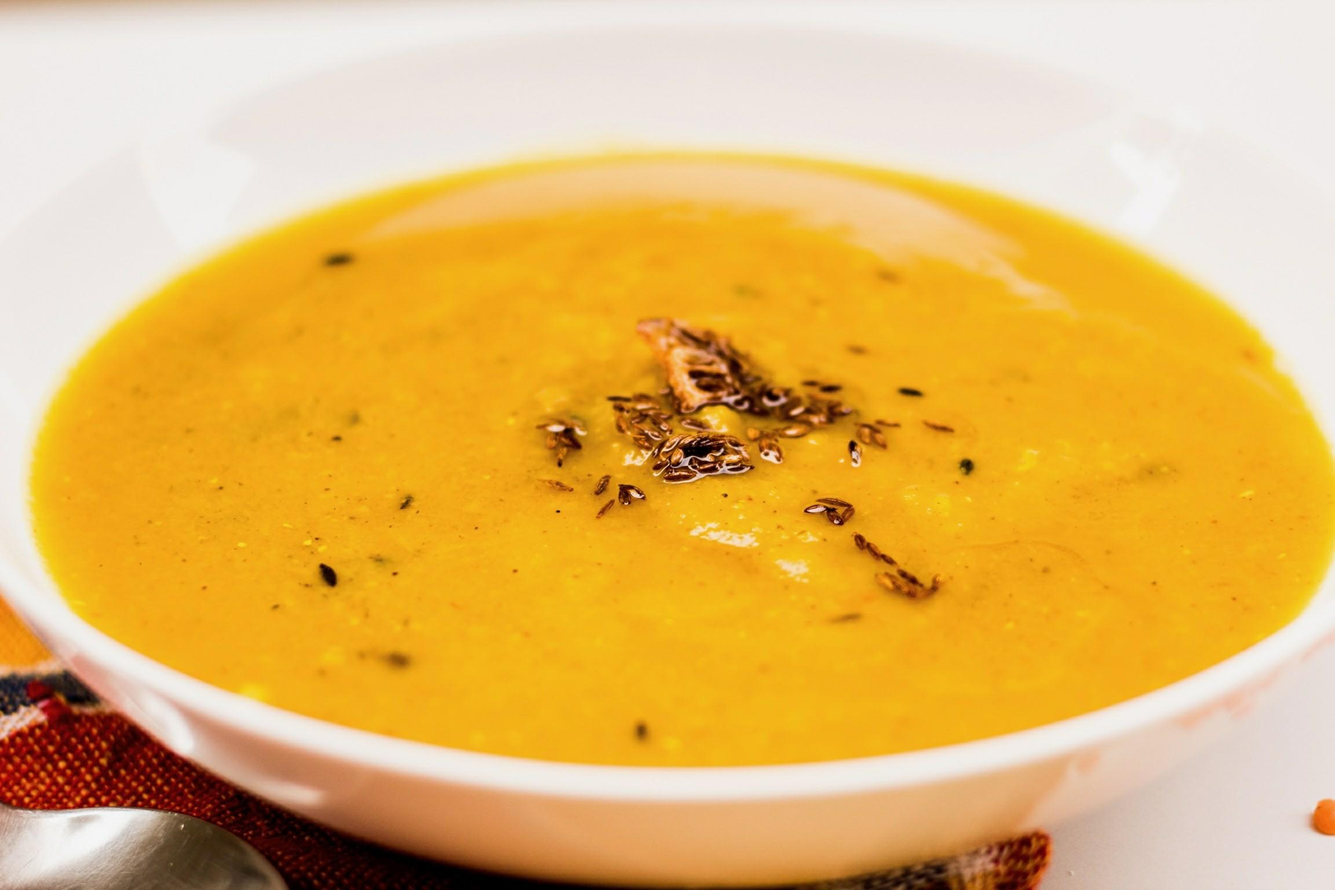Dal: (30, 149, 1335, 766)
